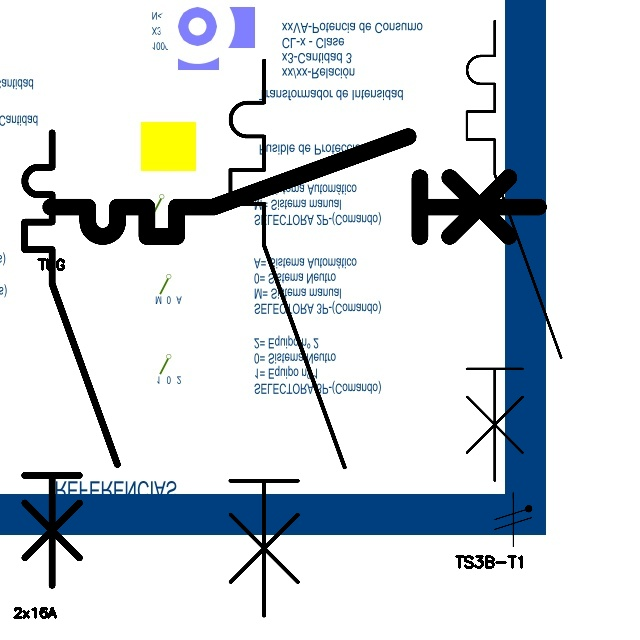interruptor_termomagnetico: (216, 46, 359, 629), (38, 124, 551, 249), (455, 9, 573, 493), (13, 121, 129, 597)
